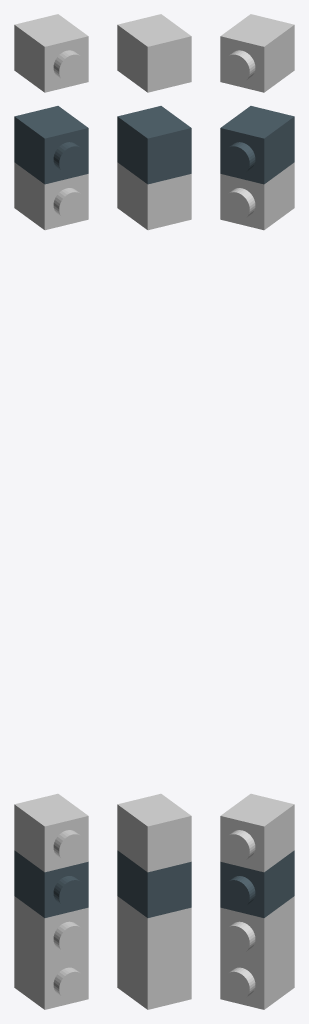
File: current.glb
The picture shows the model from 3 angles, left to right: view 1: azimuth 30°, elevation 25°; view 2: azimuth 210°, elevation 25°; view 3: azimuth 330°, elevation 25°; orthographic projection.
Visible parts, largest first — view 1: world; view 2: world; view 3: world.
Part boxes in pixels (left/top/right/bottom): world: left=14, top=14, right=88, bottom=1009; world: left=117, top=14, right=191, bottom=1009; world: left=220, top=14, right=294, bottom=1009.
Bounding box in the file's own units: 8 × 168 × 11.4.
